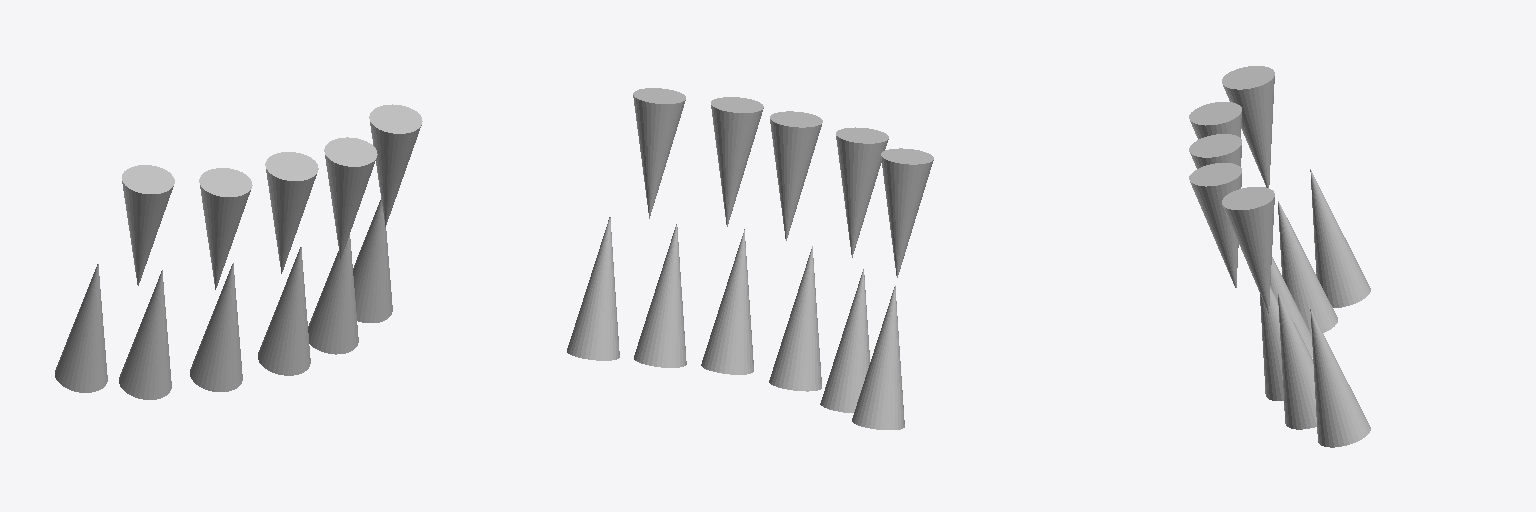
File: teeth.obj
3 renders of one model, left to right at view 1: azimuth 30°, elevation 25°; view 2: azimuth 150°, elevation 25°; view 3: azimuth 270°, elevation 25°, orthographic.
Visible parts, largest first — view 1: Cone.008_Cone.011, Cone.007_Cone.010, Cone.005, Cone.006, Cone.010_Cone.012, Cone.002, Cone.001, Cone, Cone.003, Cone.004, Cone.009; view 2: Cone.009, Cone.008_Cone.011, Cone.010_Cone.012, Cone.007_Cone.010, Cone.005, Cone.004, Cone.003, Cone.002, Cone, Cone.001, Cone.006; view 3: Cone.009, Cone.005, Cone.004, Cone, Cone.010_Cone.012, Cone.003, Cone.006, Cone.008_Cone.011, Cone.001, Cone.002, Cone.007_Cone.010.
Boxes of the visible parts, <box> form: Cone.008_Cone.011: <box>258,247,310,375</box>; Cone.007_Cone.010: <box>190,263,242,391</box>; Cone.005: <box>55,264,107,392</box>; Cone.006: <box>119,270,171,399</box>; Cone.010_Cone.012: <box>308,235,358,354</box>; Cone.002: <box>265,152,318,273</box>; Cone.001: <box>199,168,252,289</box>; Cone: <box>122,165,174,285</box>; Cone.003: <box>324,137,377,259</box>; Cone.004: <box>369,104,422,226</box>; Cone.009: <box>353,200,392,322</box>; Cone.009: <box>567,217,619,360</box>; Cone.008_Cone.011: <box>701,229,753,374</box>; Cone.010_Cone.012: <box>634,224,686,367</box>; Cone.007_Cone.010: <box>769,246,821,391</box>; Cone.005: <box>852,286,904,429</box>; Cone.004: <box>633,88,685,218</box>; Cone.003: <box>711,97,763,226</box>; Cone.002: <box>770,111,822,240</box>; Cone: <box>881,148,933,277</box>; Cone.001: <box>836,127,888,257</box>; Cone.006: <box>820,269,869,412</box>; Cone.009: <box>1310,308,1370,447</box>; Cone.005: <box>1310,169,1370,307</box>; Cone.004: <box>1222,187,1274,312</box>; Cone: <box>1222,66,1274,187</box>; Cone.010_Cone.012: <box>1278,292,1316,429</box>; Cone.003: <box>1189,163,1241,287</box>; Cone.006: <box>1278,201,1337,334</box>; Cone.008_Cone.011: <box>1260,287,1283,400</box>; Cone.001: <box>1189,102,1241,139</box>; Cone.002: <box>1189,134,1241,168</box>; Cone.007_Cone.010: <box>1270,257,1312,357</box>.
Bounding box in the file's own units: 2.31 × 1.63 × 1.1.